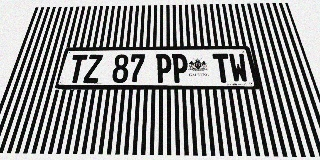7: (128, 54, 145, 83)
8: (111, 54, 130, 83)
P: (155, 54, 172, 83), (172, 54, 188, 83)
T: (212, 53, 232, 83), (67, 55, 88, 83)
W: (228, 53, 249, 83)
Z: (83, 54, 103, 83)
